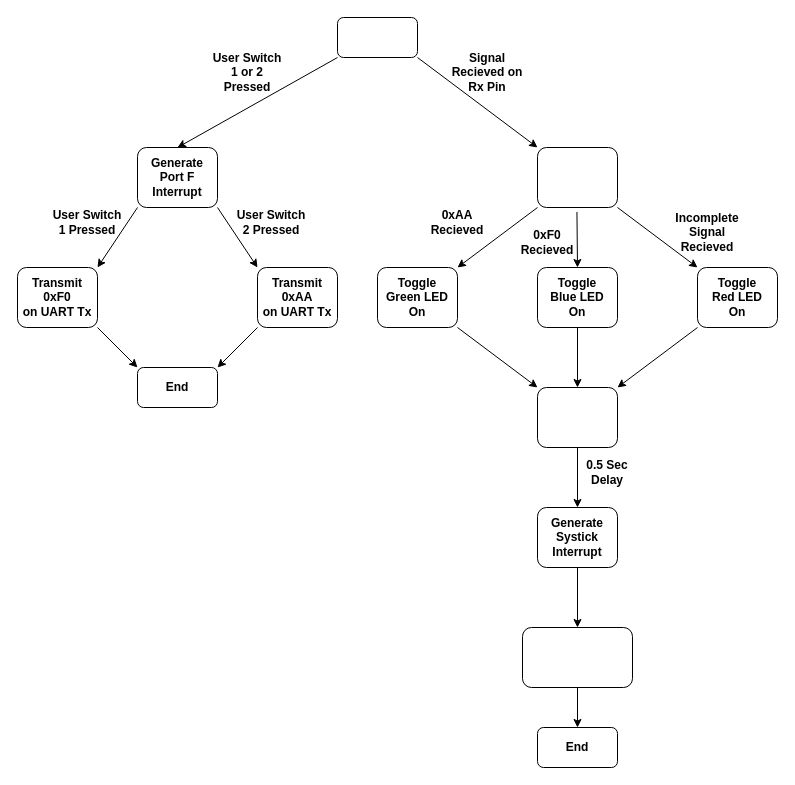
This 795x785 diagram has some shape labels left out. Here are the shapes that lost their labels. From the top down, the box of each, then its label:
(336, 16, 418, 58): Start
(536, 146, 618, 208): Generate UART Interrupt
(536, 386, 618, 448): Enable Systick for 0.5 Seconds
(522, 626, 632, 688): Toggle LED Off Clear Interrupts Clear UART Flags
